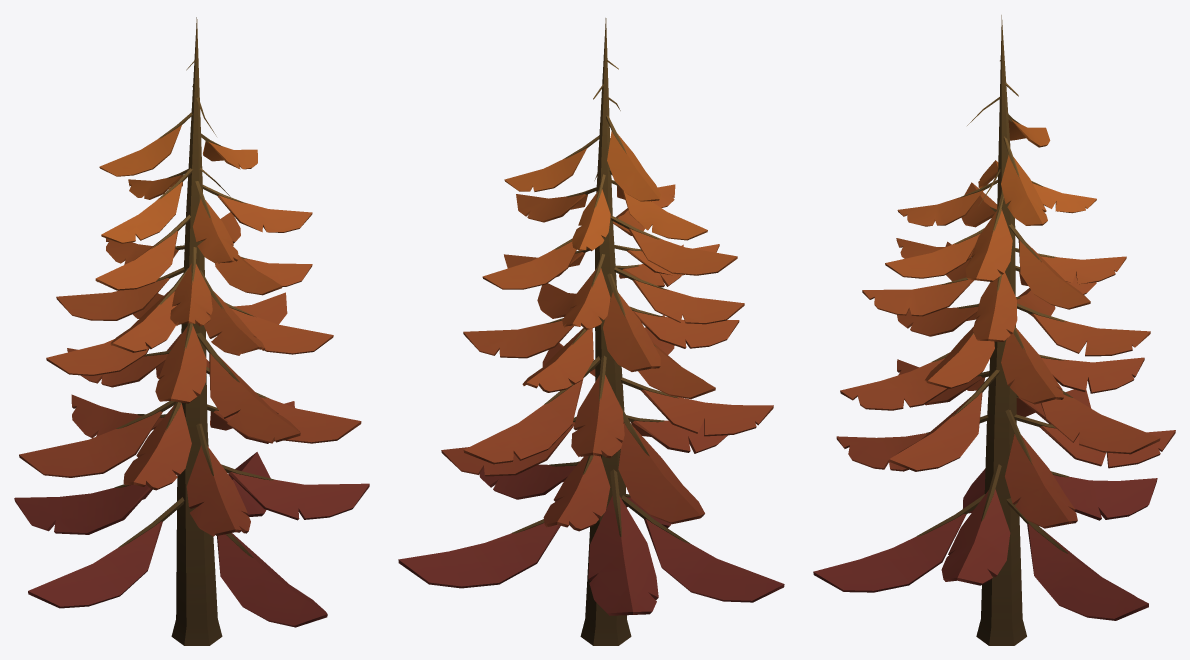
Rendered from Autumn_Tree_06.glb.
3 renders of one model, left to right at view 1: azimuth 30°, elevation 25°; view 2: azimuth 150°, elevation 25°; view 3: azimuth 270°, elevation 25°, orthographic.
Parts seen in each view (by area): view 1: Autumn_Tree_06_LOD0; view 2: Autumn_Tree_06_LOD0; view 3: Autumn_Tree_06_LOD0.
Part boxes in pixels (bbox=[...]): Autumn_Tree_06_LOD0: bbox=[14, 17, 369, 645]; Autumn_Tree_06_LOD0: bbox=[398, 18, 784, 645]; Autumn_Tree_06_LOD0: bbox=[813, 15, 1175, 645].
Size of what is drawn, in the model's own units: 3.04 by 5.57 by 2.94.
1 material, 1 textured.
